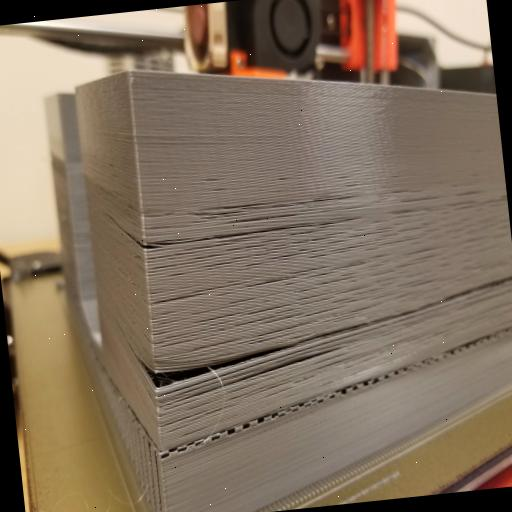cracks: (146, 327, 505, 474), (120, 313, 306, 408), (104, 202, 218, 280)
